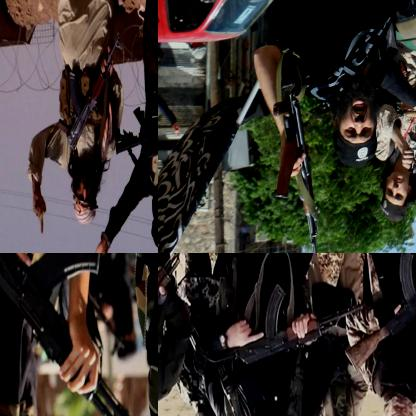rifle: (0, 253, 149, 415), (223, 278, 370, 366), (271, 84, 328, 252), (343, 253, 415, 372), (57, 27, 122, 158), (158, 253, 199, 394), (115, 102, 157, 163)
